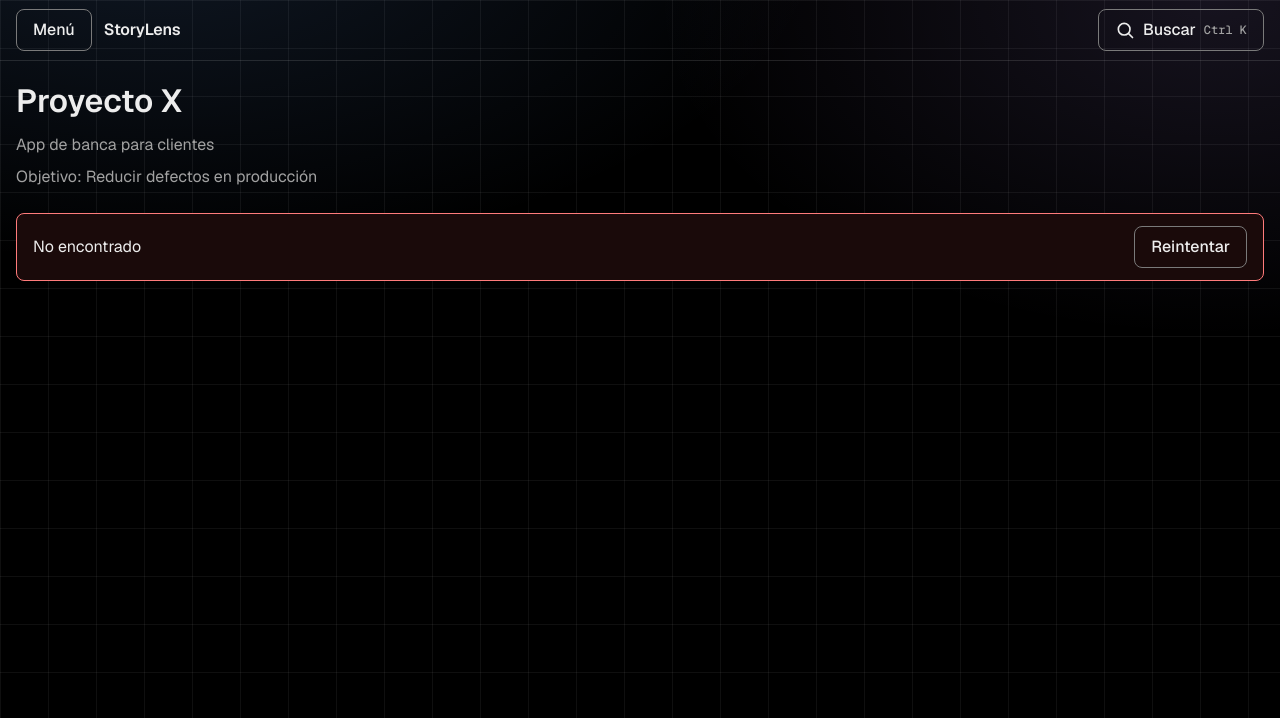
Test: Shell › al navegar desde el menú móvil el foco pasa al contenido
Click the button "Menú" at (54, 30), box [16, 9, 92, 51]
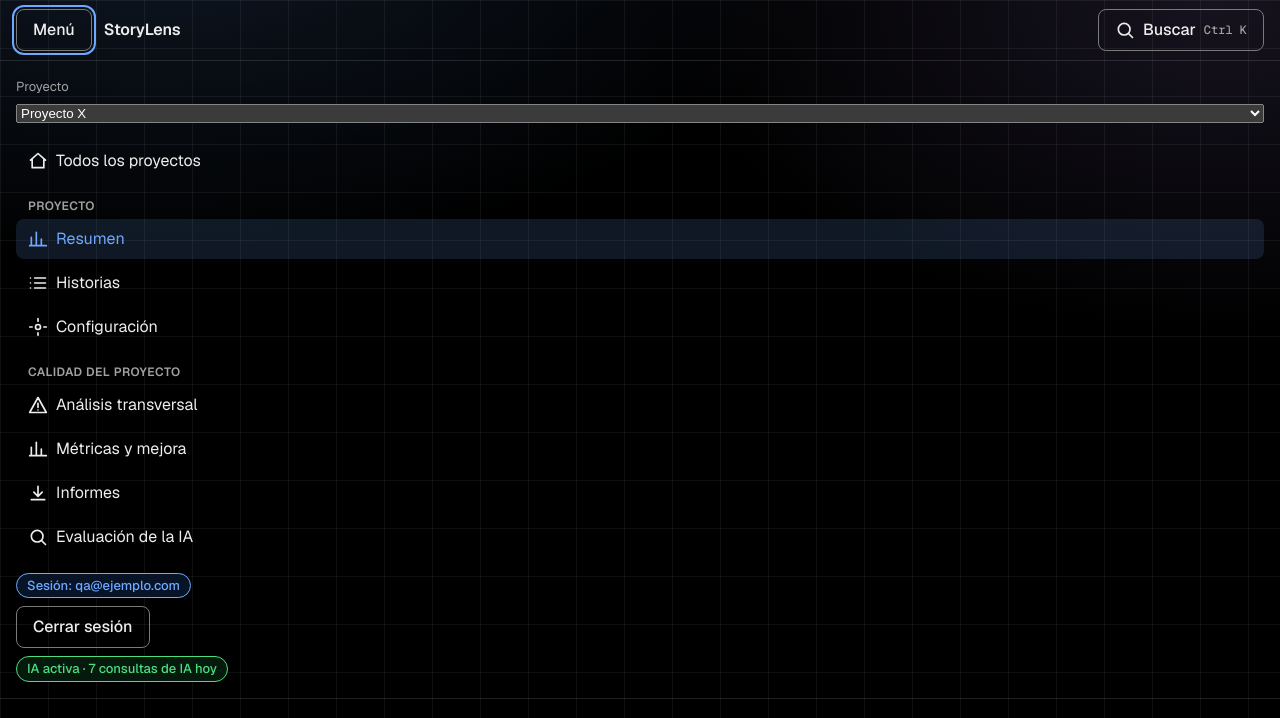
Click the link "Informes" at (74, 492), box [28, 482, 120, 502]
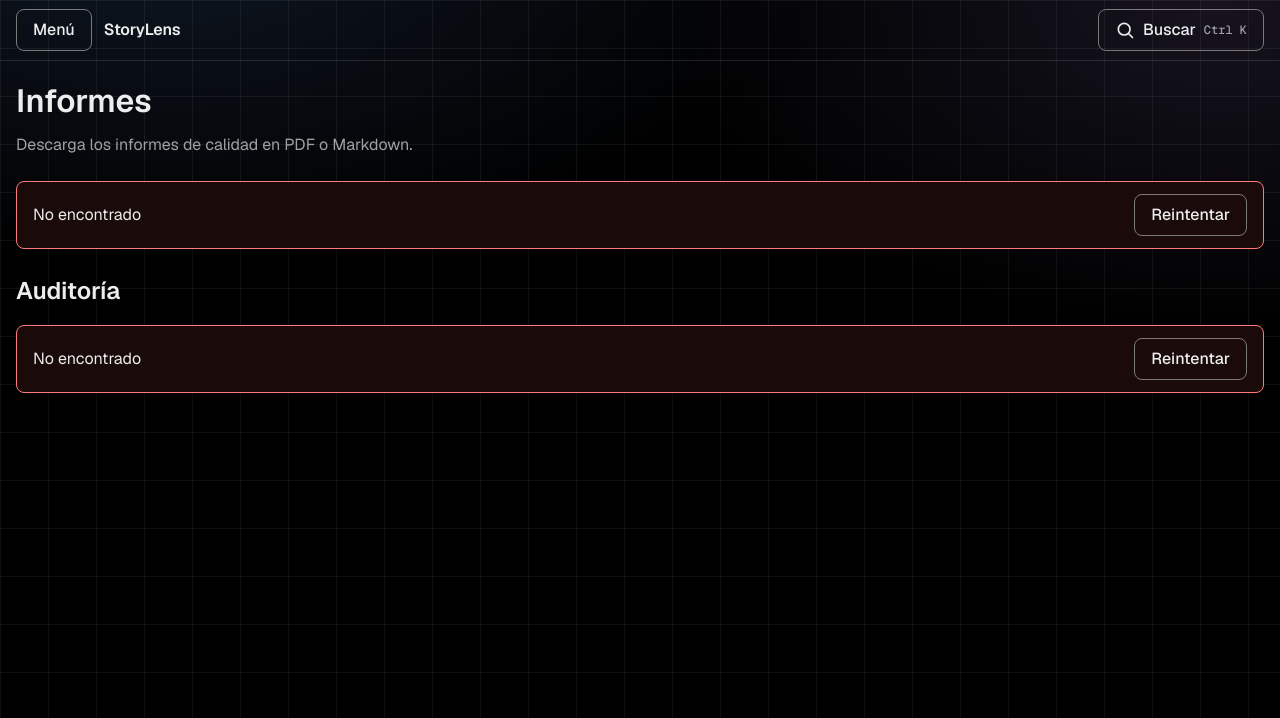
Now the navigation bar "Módulos" is gone
